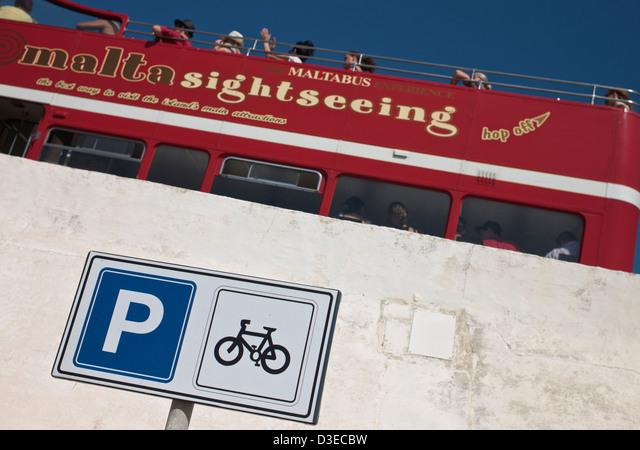Parking Lot Cycle: (63, 242, 324, 413)
